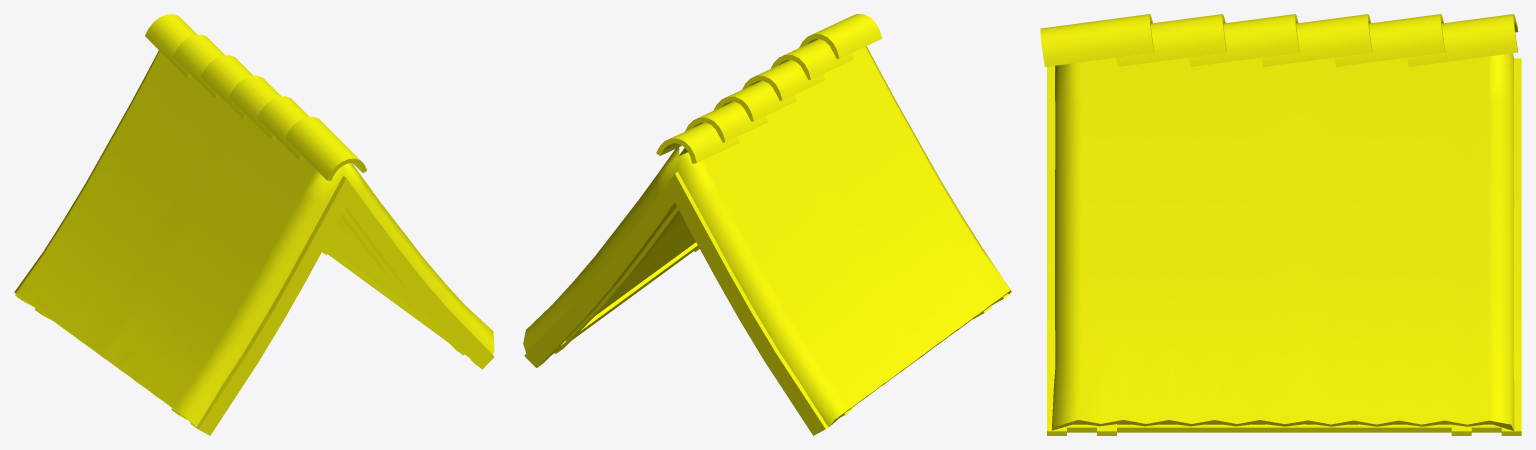
The model's file is Roof_RoundTiles_4x4.glb.
The picture shows the model from 3 angles, left to right: view 1: azimuth 30°, elevation 25°; view 2: azimuth 150°, elevation 25°; view 3: azimuth 270°, elevation 25°; orthographic projection. The views are drawn at different scales.
Parts seen in each view (by area): view 1: Roof_RoundTiles_4x4; view 2: Roof_RoundTiles_4x4; view 3: Roof_RoundTiles_4x4.
Part boxes in pixels (box(x1,y1,x2,y2)): Roof_RoundTiles_4x4: box(14, 14, 494, 435); Roof_RoundTiles_4x4: box(523, 14, 1011, 435); Roof_RoundTiles_4x4: box(1040, 14, 1521, 435).
Bounding box in the file's own units: 5.51 × 4.25 × 5.56.
2 materials, 2 textured.
